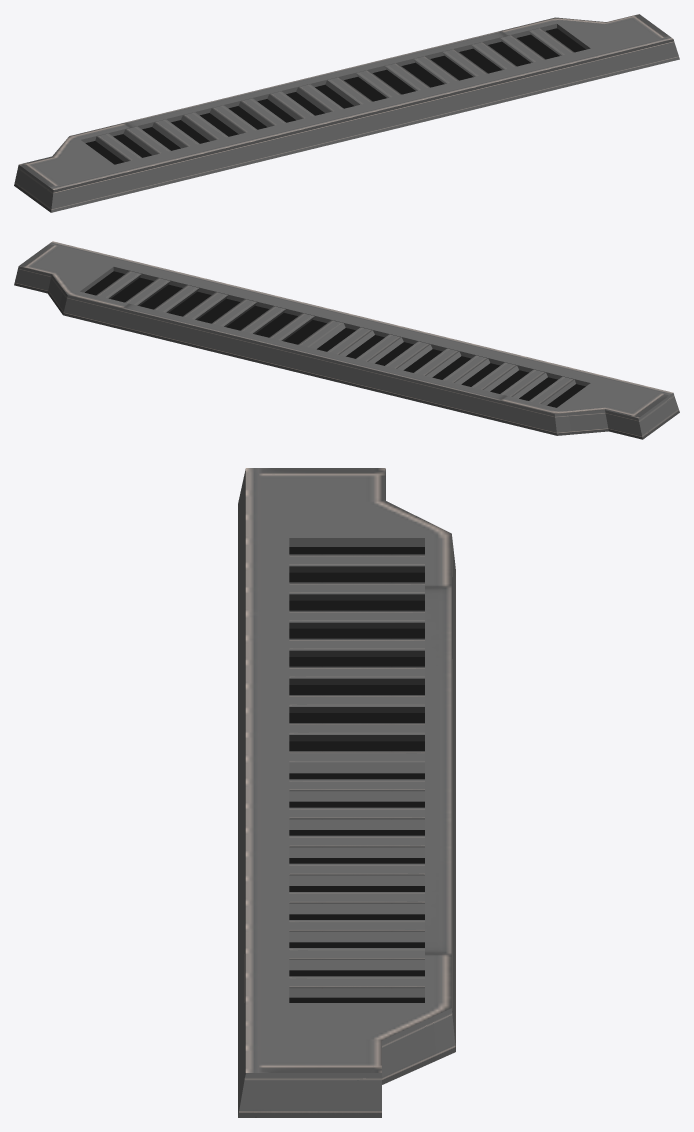
Rendered from Prop_Vent_Wide.gltf.
3 renders of one model, top to bottom at view 1: azimuth 30°, elevation 25°; view 2: azimuth 150°, elevation 25°; view 3: azimuth 270°, elevation 25°, orthographic. The views are drawn at different scales.
Parts seen in each view (by area): view 1: Prop_Vent_Wide; view 2: Prop_Vent_Wide; view 3: Prop_Vent_Wide.
Boxes of the visible parts, x1,y1,x2,y2 form: Prop_Vent_Wide: (14,14,679,212); Prop_Vent_Wide: (14,241,679,439); Prop_Vent_Wide: (238,468,455,1117).
Bounding box in the file's own units: 1.94 × 0.0595 × 0.291.
Materials: 3 (2 with a texture image).
